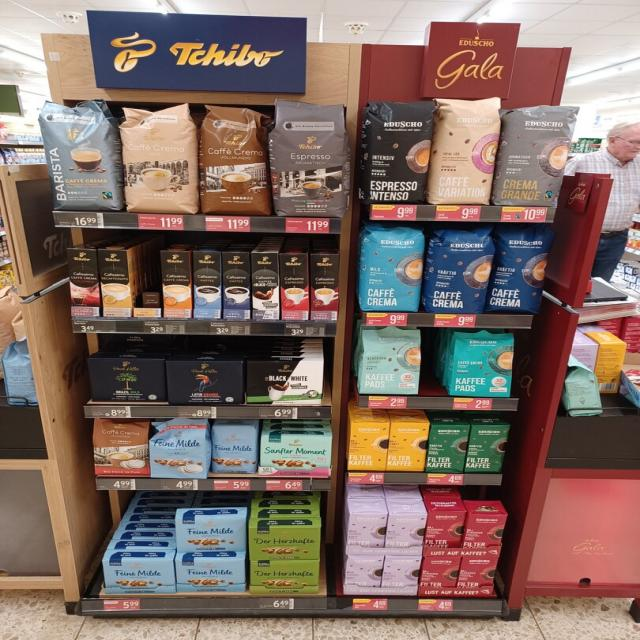BM Gemahlen: (85, 356, 167, 404)
BW Gemahlen: (246, 358, 325, 406)
Barista CC: (40, 98, 120, 211)
CC Mild: (120, 104, 200, 215)
CC Vollmundig: (94, 417, 150, 477)
CC Vollmundig 36 Pads: (200, 101, 270, 215)
Espresso Aromatisch: (271, 94, 350, 218)
FM 36 Pads: (152, 419, 210, 479)
FM Bohne: (212, 423, 258, 474)
FM Gemahlen: (100, 557, 176, 596), (172, 515, 248, 553), (174, 556, 248, 594)
Herzhatfe Mundig: (246, 526, 322, 560), (248, 561, 321, 595)
LG Gemahlen: (166, 358, 244, 406)
SM Gemahlen: (260, 432, 332, 478)
Simo CC Colombia: (66, 248, 101, 317)
Simo CCVollmundig bigpack: (162, 250, 192, 318)
Simo Decaff: (98, 248, 132, 317)
Simo Es Brazil: (280, 254, 309, 321)
Simo Es Caramel: (311, 255, 338, 321)
Simo Es Elegant: (252, 252, 280, 320)
Simo Es Kraft: (222, 252, 250, 320)
Simo Es Vanilla: (194, 251, 222, 318)
